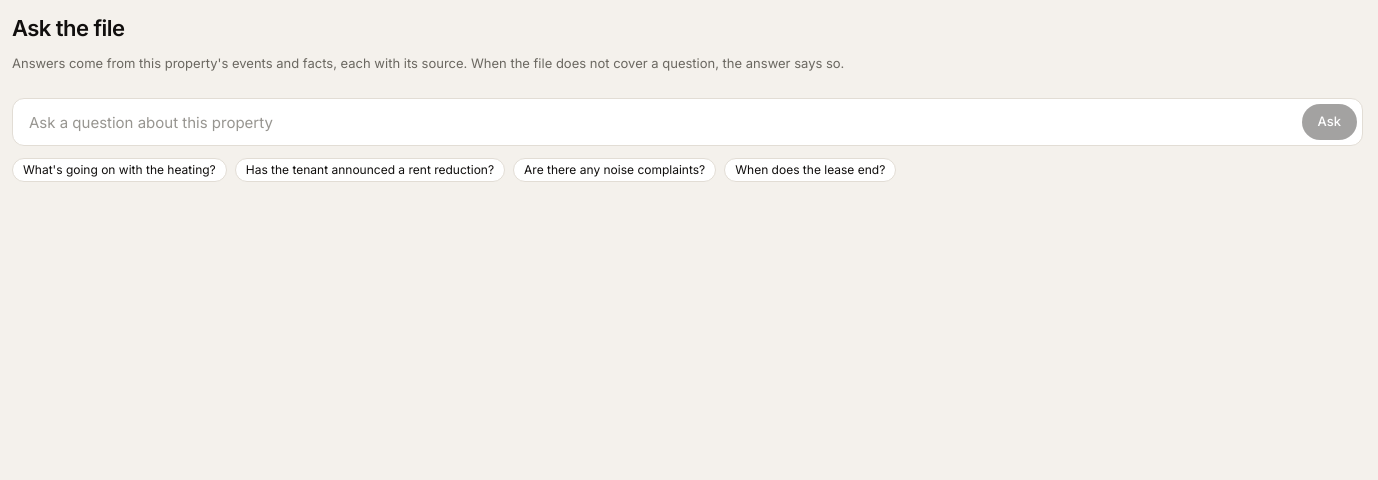
Test case: AskPanel › shows an answer with its sources
In the field: (688, 122) [12,98,1363,146], type "What is going on?"
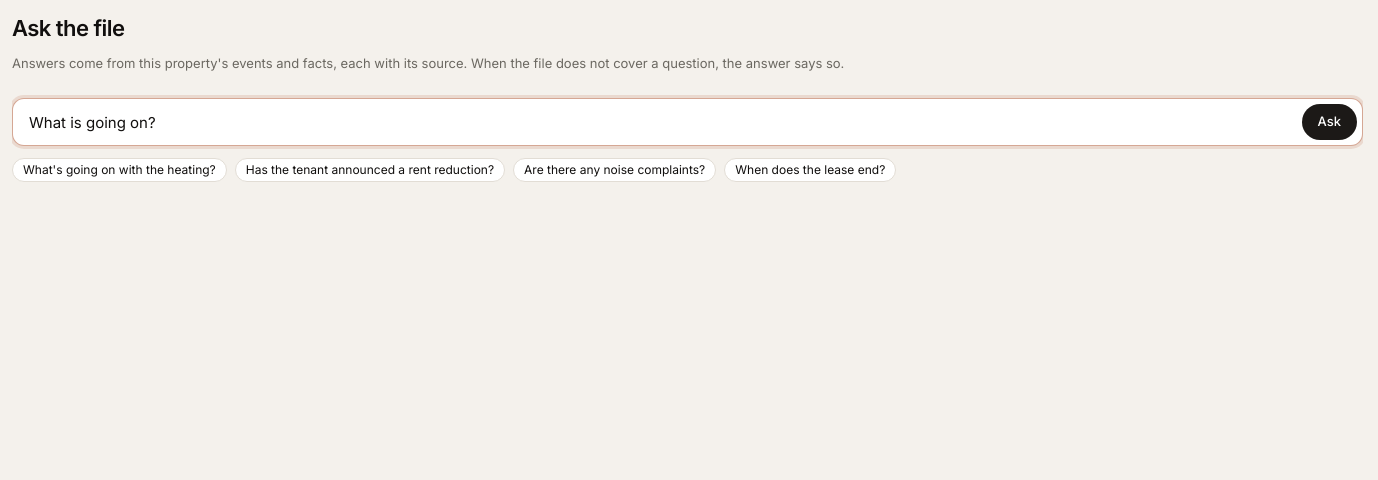
Click the button "Ask": (1329, 122) [1302,104,1357,140]
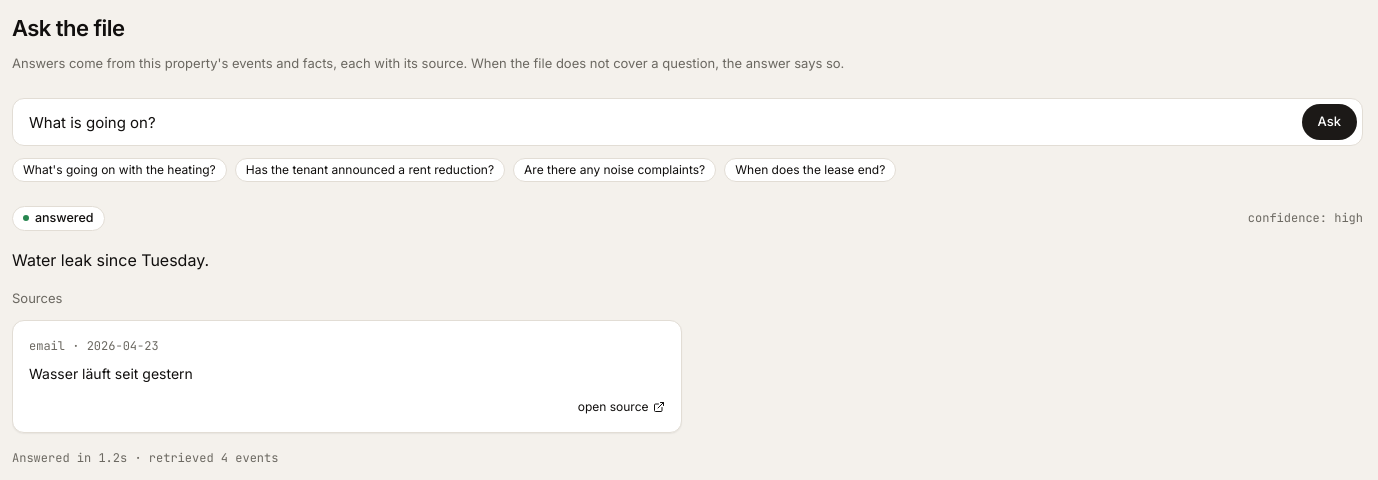
Check: the text "Water leak since Tuesday." is shown, box [12,250,209,270]
Check: the text "answered" is shown, box [12,206,104,231]
Check: the text "Wasser läuft seit gestern" is shown, box [29,365,193,382]
